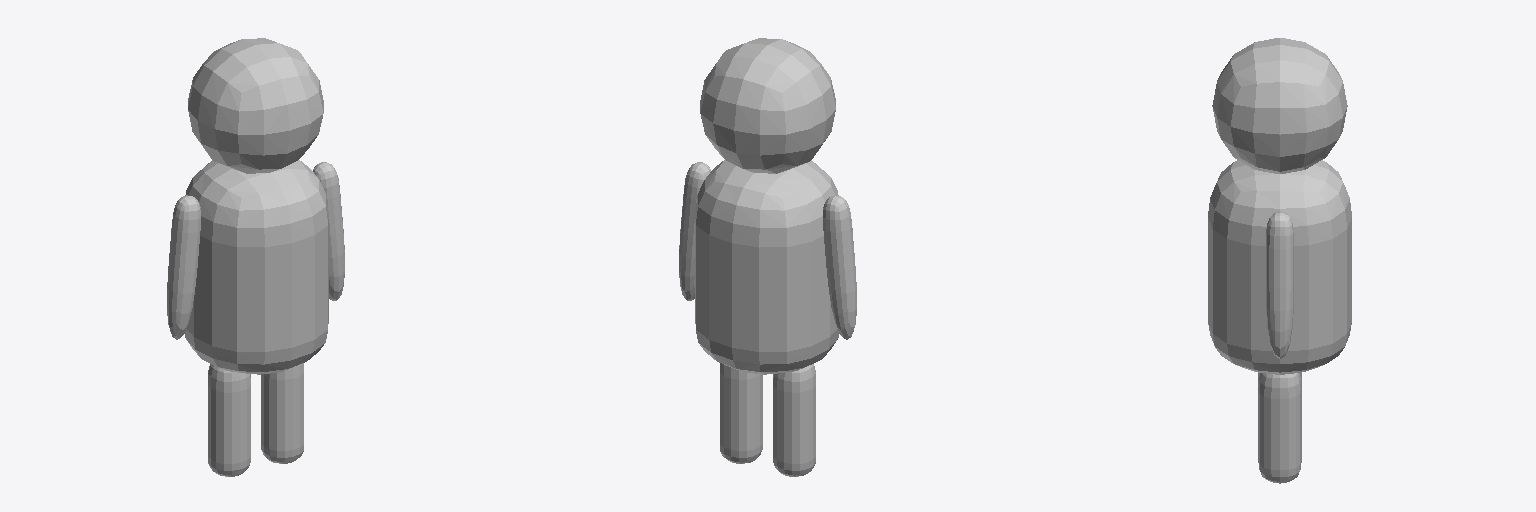
The model's file is person.obj.
The picture shows the model from 3 angles: view 1: azimuth 30°, elevation 25°; view 2: azimuth 150°, elevation 25°; view 3: azimuth 270°, elevation 25°; orthographic projection.
Visible parts, largest first — view 1: Cube; view 2: Cube; view 3: Cube.
Part boxes in pixels (x1,y1,x2,y2): Cube: (167, 38, 344, 476); Cube: (679, 38, 856, 476); Cube: (1208, 38, 1351, 483).
Bounding box in the file's own units: 2.62 × 6.06 × 1.88.